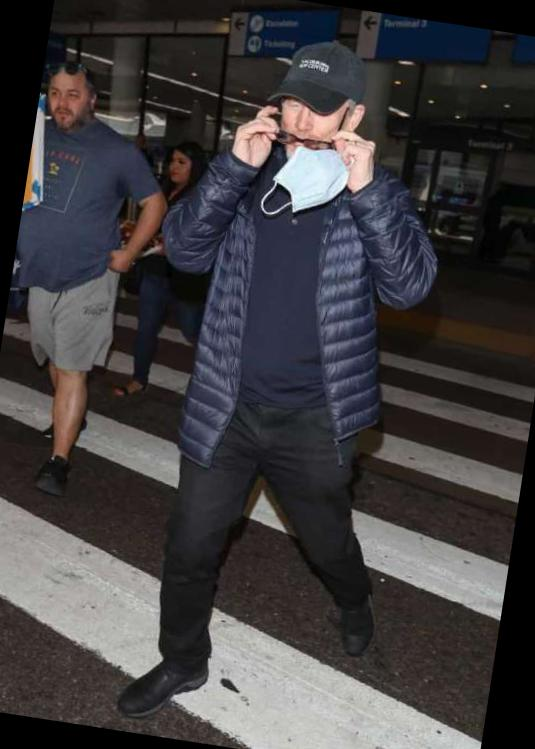mask_weared_incorrect: (275, 101, 352, 177)
without_mask: (45, 75, 93, 132), (164, 152, 192, 186)
